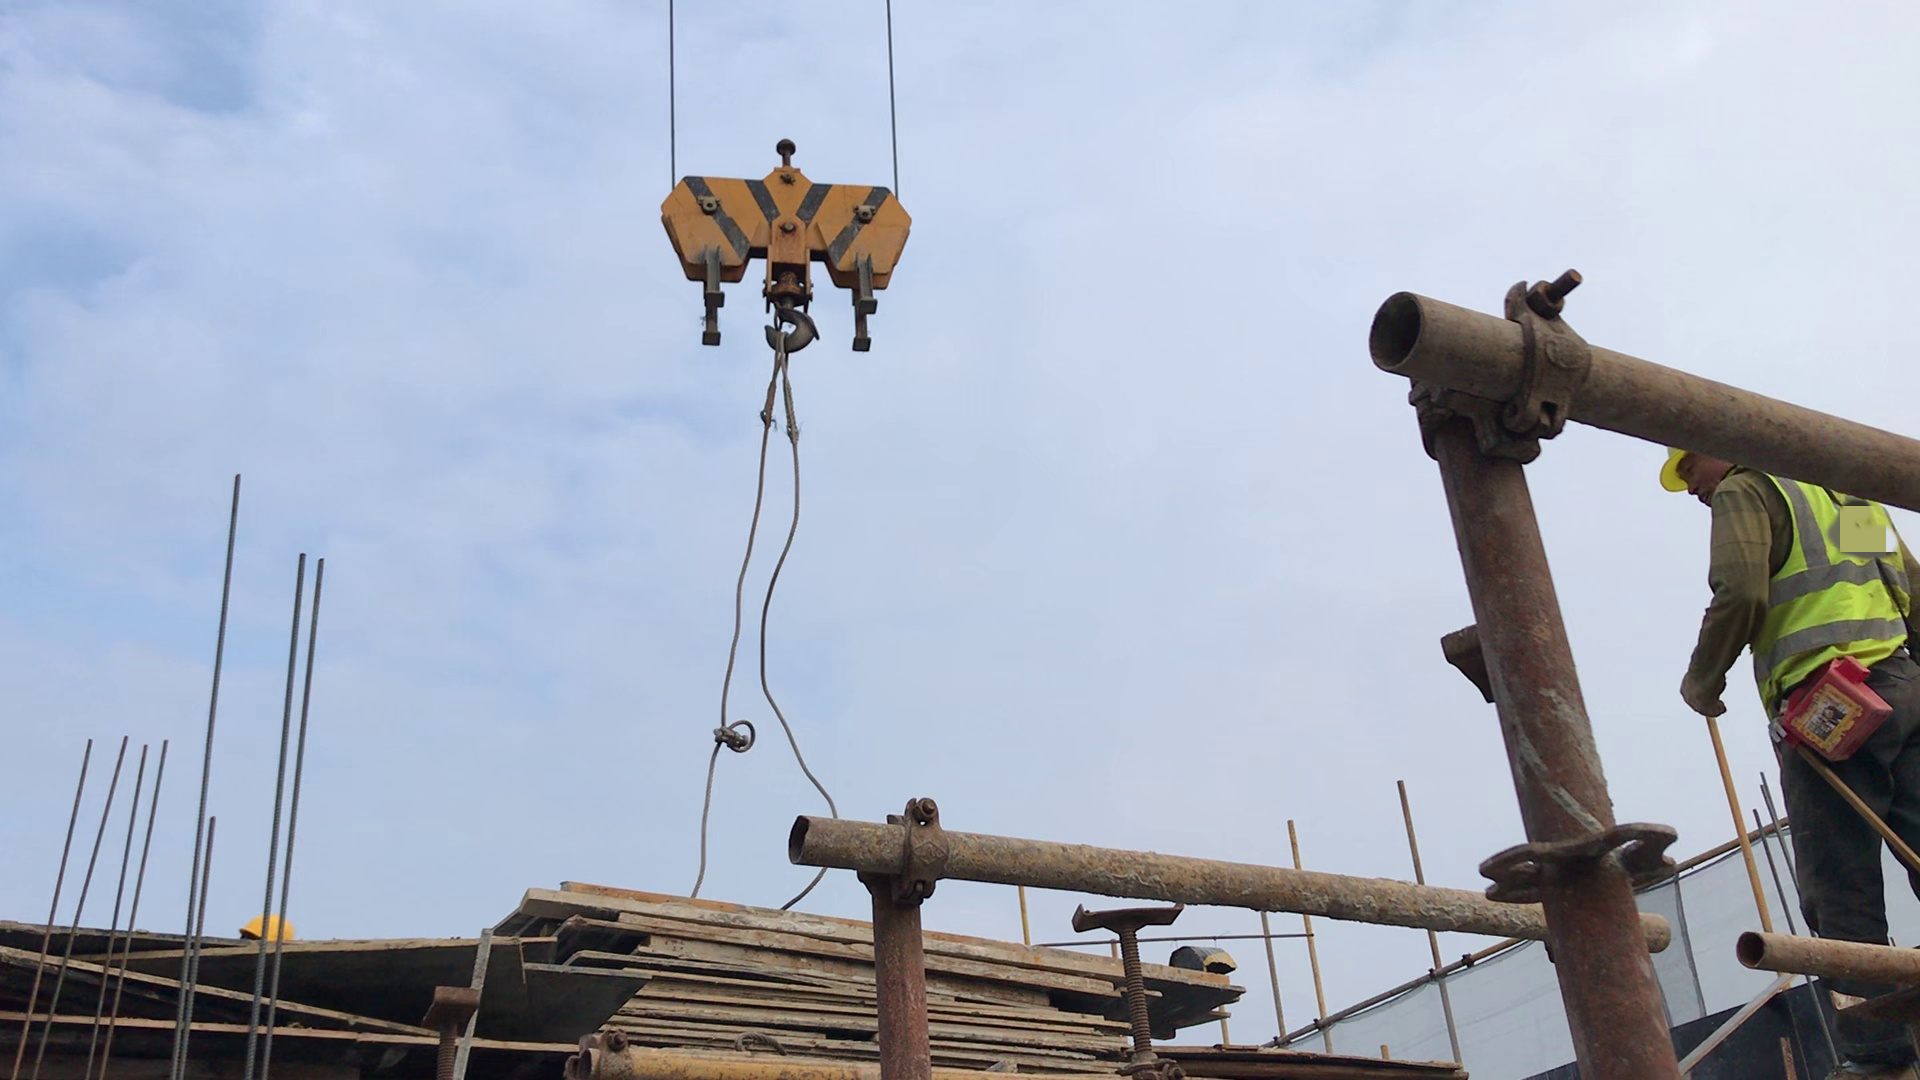board: (522, 876, 1212, 1048)
helmet: (1649, 441, 1699, 498), (234, 917, 303, 943)
hook: (663, 135, 924, 368)
person: (1608, 386, 1920, 1028)
vest: (1710, 483, 1915, 691)
